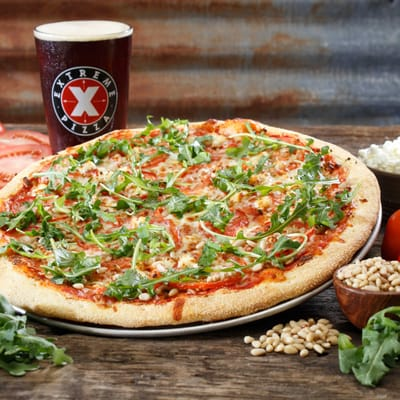sushi: (332, 256, 400, 330)
